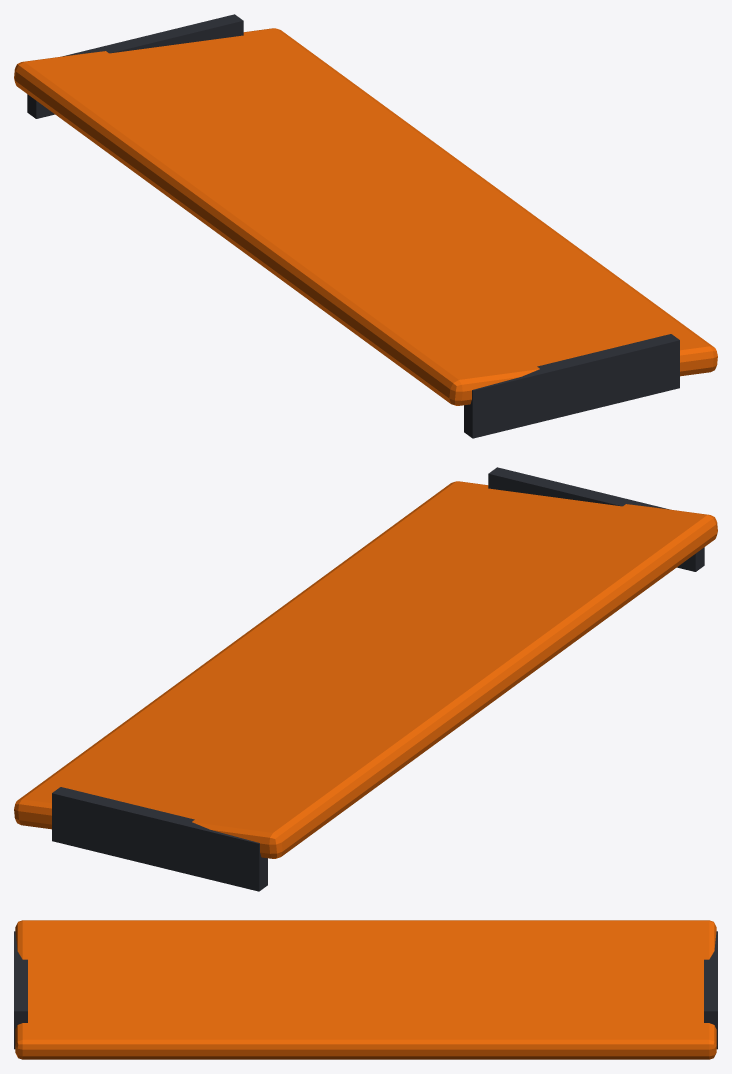
The model's file is spoiler.obj.
3 renders of one model, top to bottom at view 1: azimuth 30°, elevation 25°; view 2: azimuth 150°, elevation 25°; view 3: azimuth 270°, elevation 25°, orthographic. The views are drawn at different scales.
Visible parts, largest first — view 1: Cube; view 2: Cube; view 3: Cube.
Part boxes in pixels (box(x1,y1,x2,y2)): Cube: box(14, 14, 717, 438); Cube: box(14, 467, 717, 891); Cube: box(14, 920, 717, 1059).
Bounding box in the file's own units: 0.4391 × 0.089 × 1.26.
